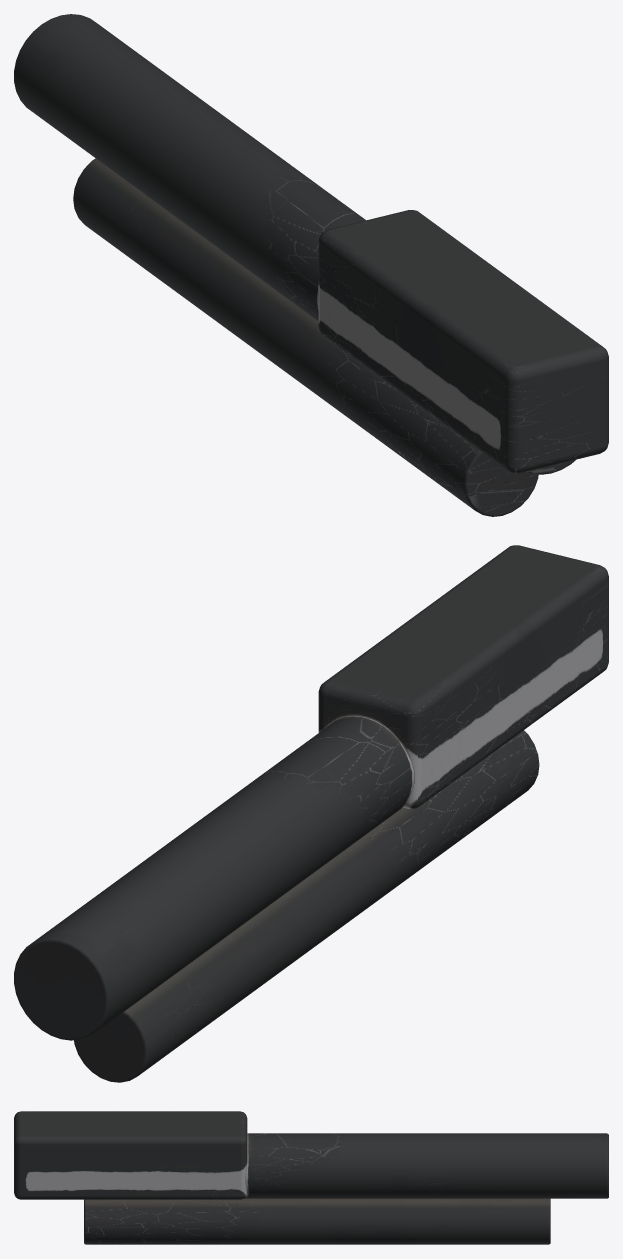
File: underbarrel_shotgun.gltf
3 renders of one model, top to bottom at view 1: azimuth 30°, elevation 25°; view 2: azimuth 150°, elevation 25°; view 3: azimuth 270°, elevation 25°, orthographic. The views are drawn at different scales.
Visible parts, largest first — view 1: Frame; view 2: Frame; view 3: Frame.
Boxes of the visible parts, x1=… form: Frame: x1=14, y1=14, x2=608, y2=516; Frame: x1=14, y1=545, x2=608, y2=1082; Frame: x1=14, y1=1111, x2=608, y2=1244.
Size of the model in its own units: 0.03 by 0.056 by 0.255.
1 material, 1 textured.
